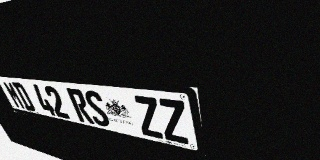2: (42, 85, 70, 119)
4: (30, 84, 57, 116)
D: (11, 82, 37, 112)
M: (2, 81, 26, 110)
R: (66, 88, 95, 124)
S: (82, 90, 112, 128)
Z: (157, 98, 190, 145), (132, 95, 165, 139)
